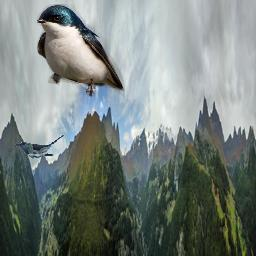Cuckoo: (15, 134, 65, 159)
Swallow: (37, 4, 125, 97)
